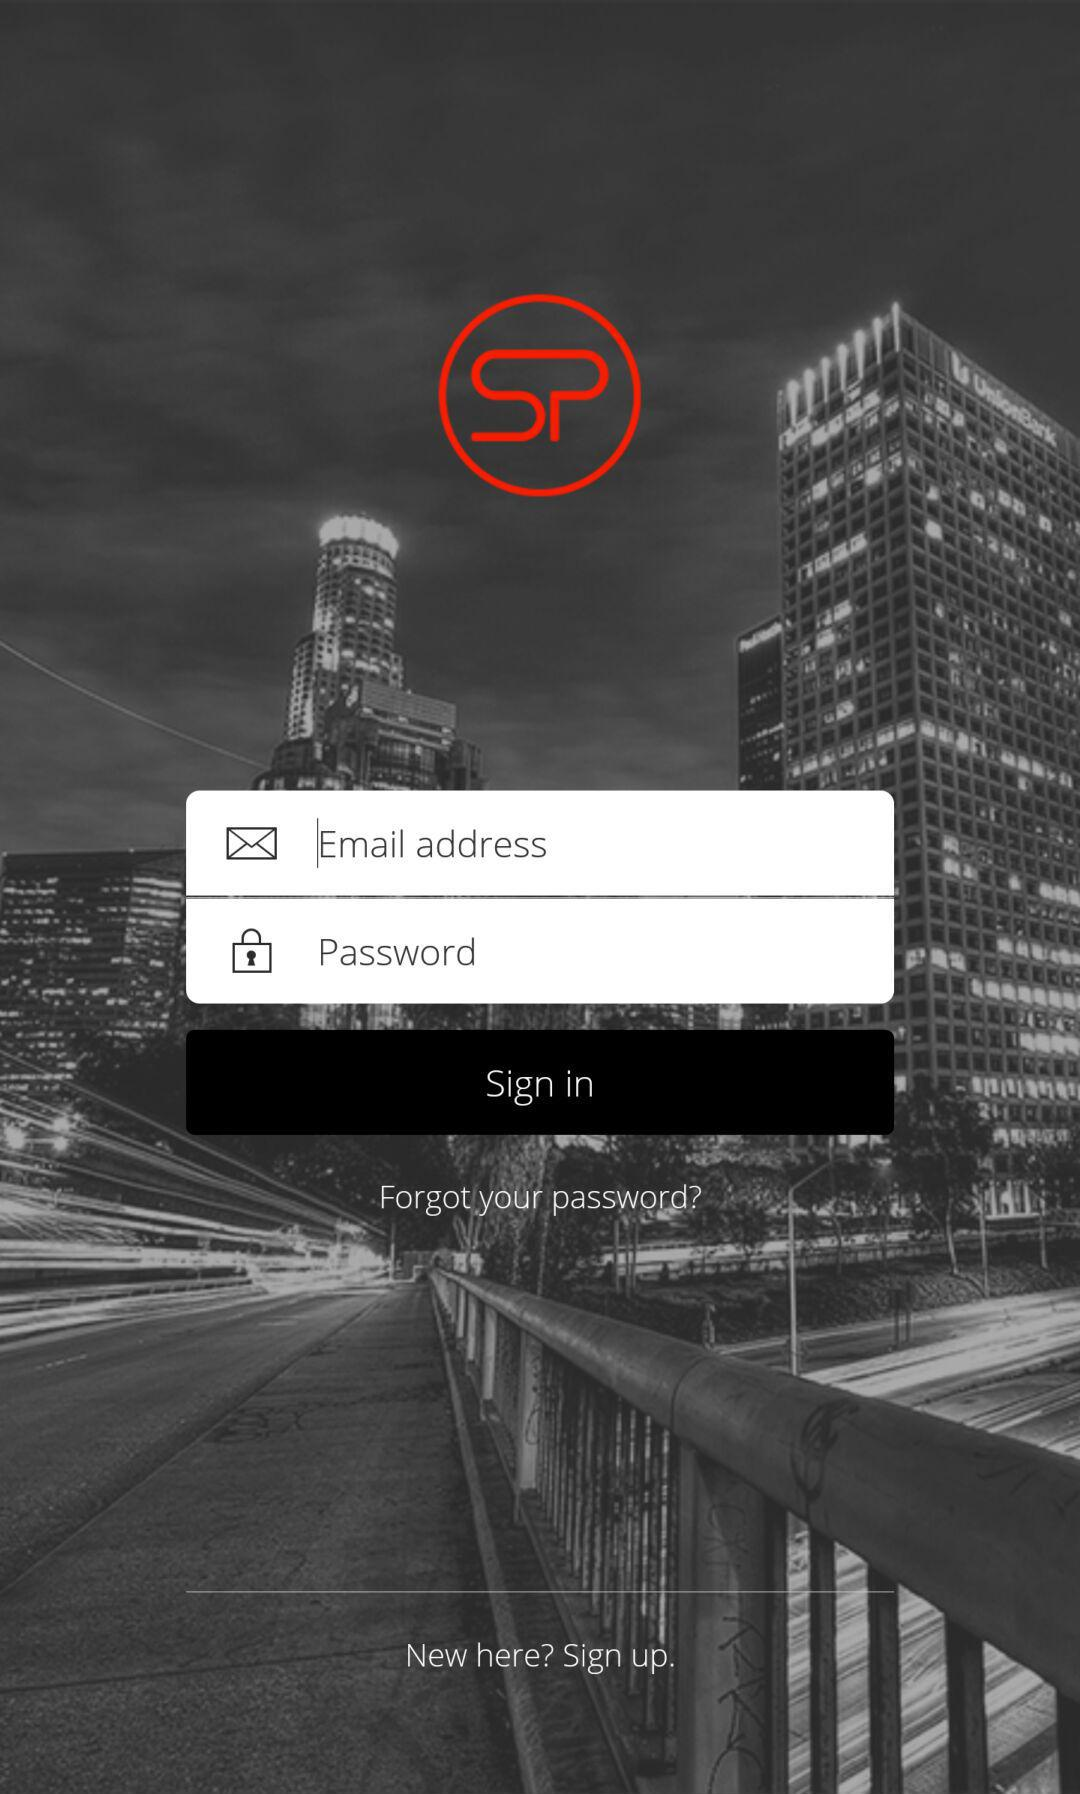BackgroundImage: (1, 1, 1080, 1794)
EditText: (186, 898, 896, 1005), (186, 789, 896, 896)
Icon: (232, 928, 273, 974), (225, 827, 278, 861)
Image: (437, 293, 643, 498)
Text: (380, 1183, 703, 1219), (407, 1642, 676, 1676), (320, 829, 547, 859), (322, 937, 477, 967)
TextButton: (186, 1030, 896, 1137)
